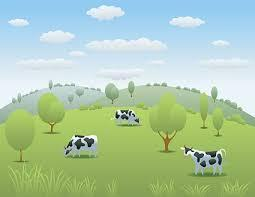cow: (180, 146, 226, 178), (64, 135, 99, 158), (115, 109, 141, 125)
